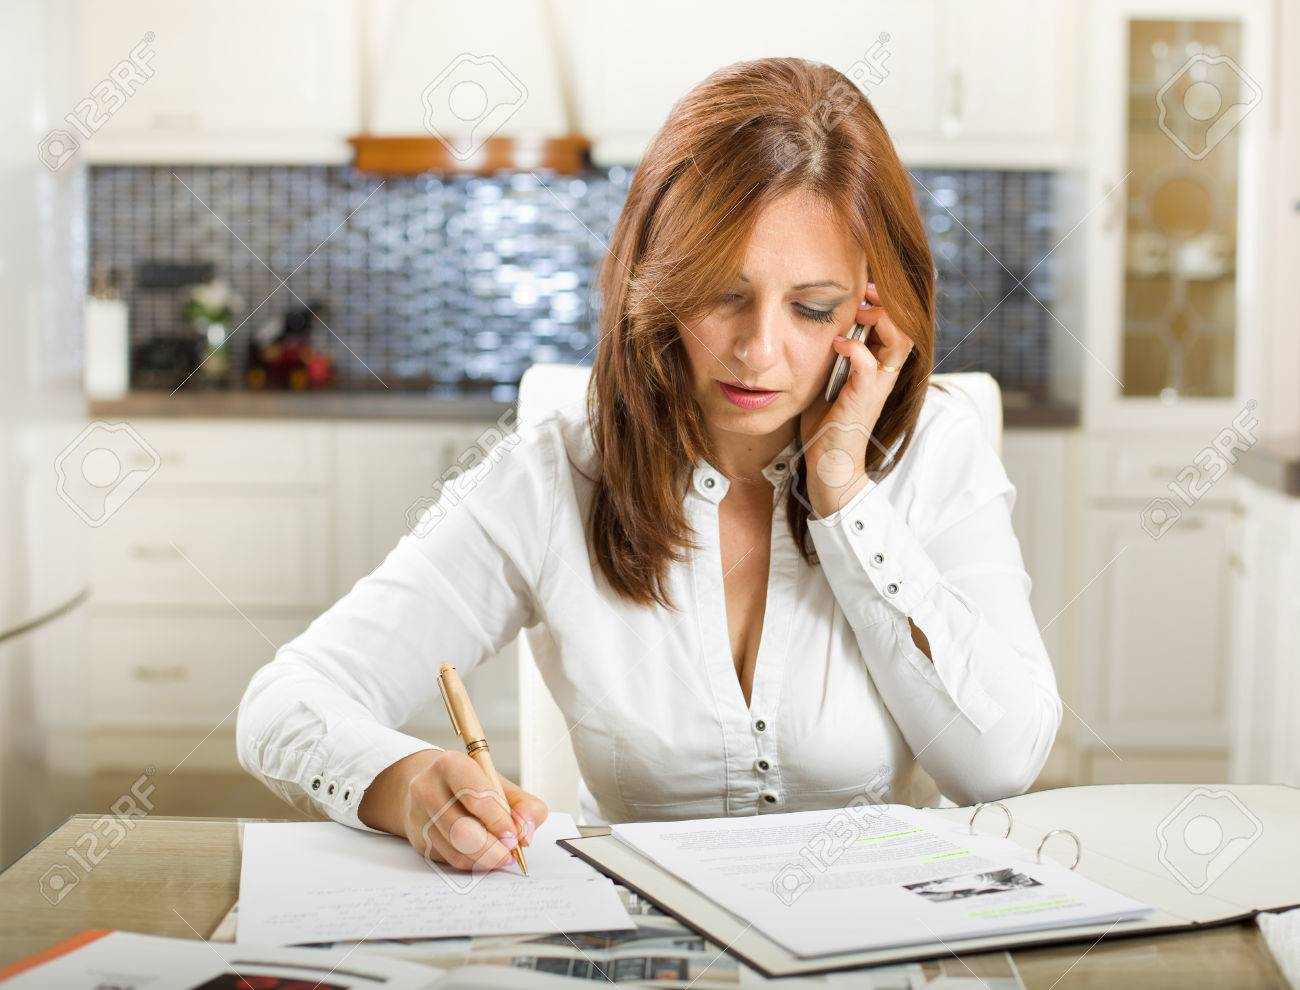phone: (812, 260, 915, 461)
talk: (684, 253, 943, 509)
